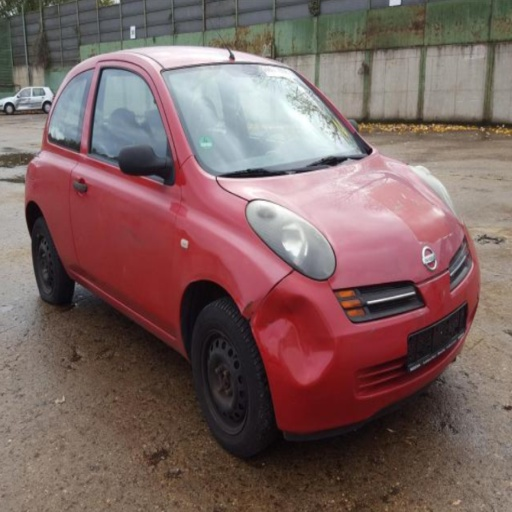dent: (253, 283, 343, 397), (238, 291, 260, 323)
rust: (246, 301, 261, 325), (241, 299, 254, 317), (247, 311, 255, 326)
